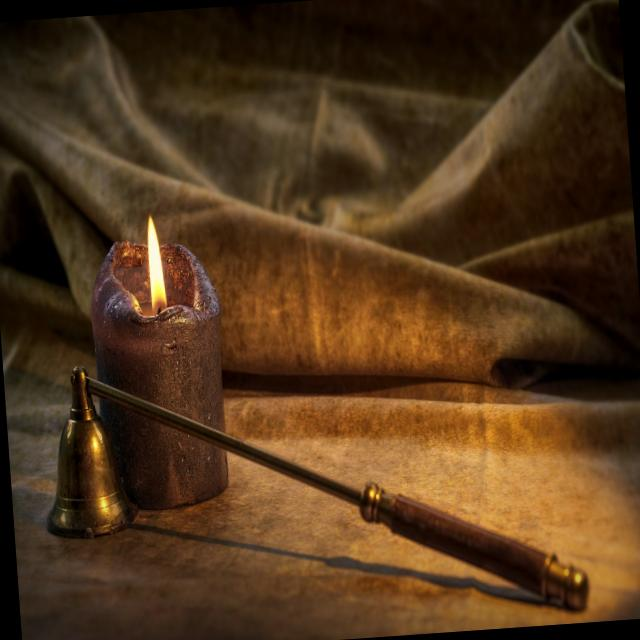Fire_Save: (82, 208, 234, 514), (143, 212, 167, 314)
